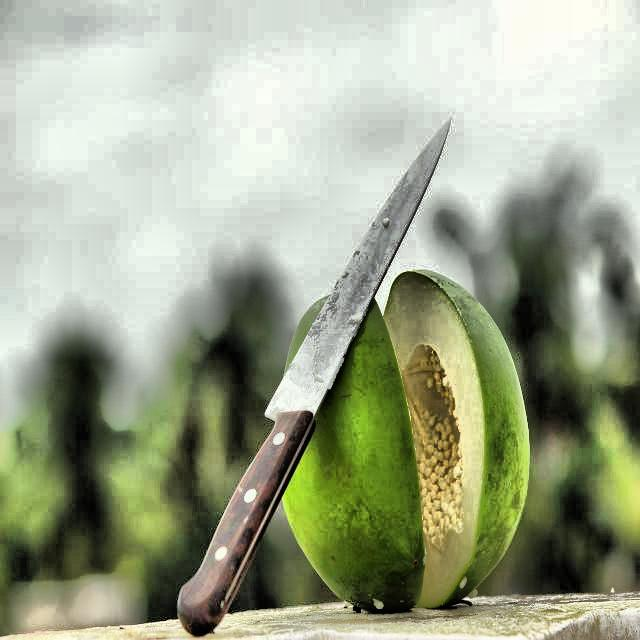knife: (174, 118, 455, 640)
